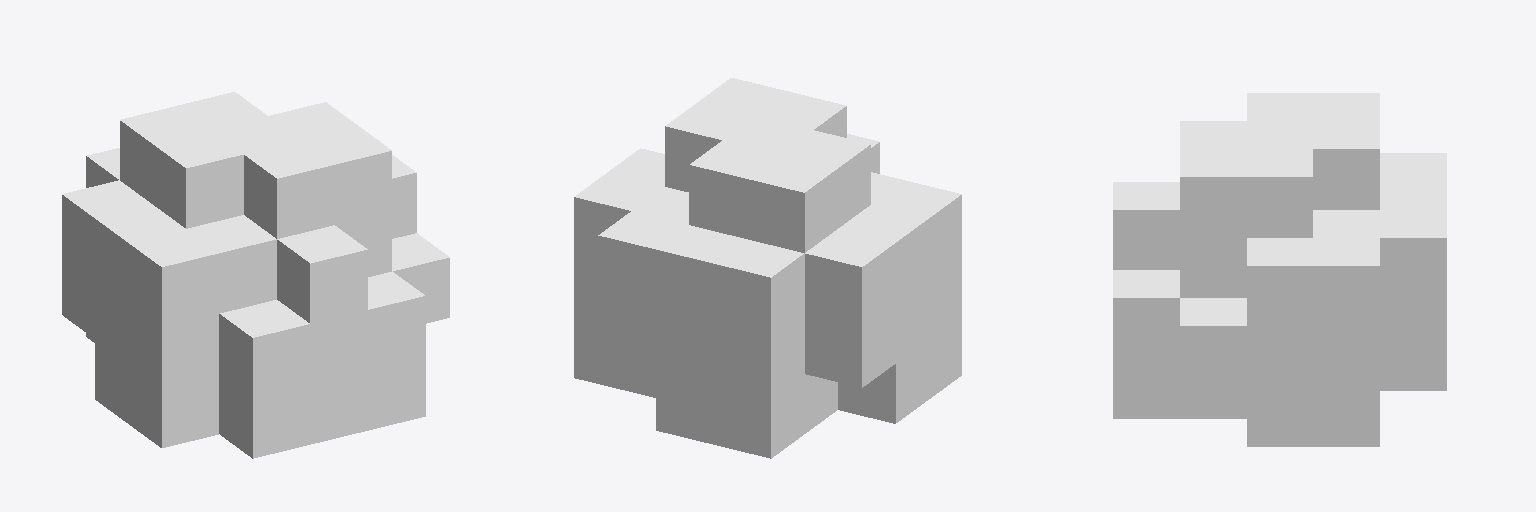
File: SH_Enviorment-10-StoneF.obj
The picture shows the model from 3 angles: view 1: azimuth 30°, elevation 25°; view 2: azimuth 150°, elevation 25°; view 3: azimuth 270°, elevation 25°; orthographic projection.
Visible parts, largest first — view 1: StoneF; view 2: StoneF; view 3: StoneF.
Boxes of the visible parts, box(x1,y1,x2,y2) form: StoneF: box(62, 92, 449, 458); StoneF: box(574, 78, 961, 458); StoneF: box(1113, 93, 1446, 446).
Size of the model in its own units: 0.5 by 0.4 by 0.5.